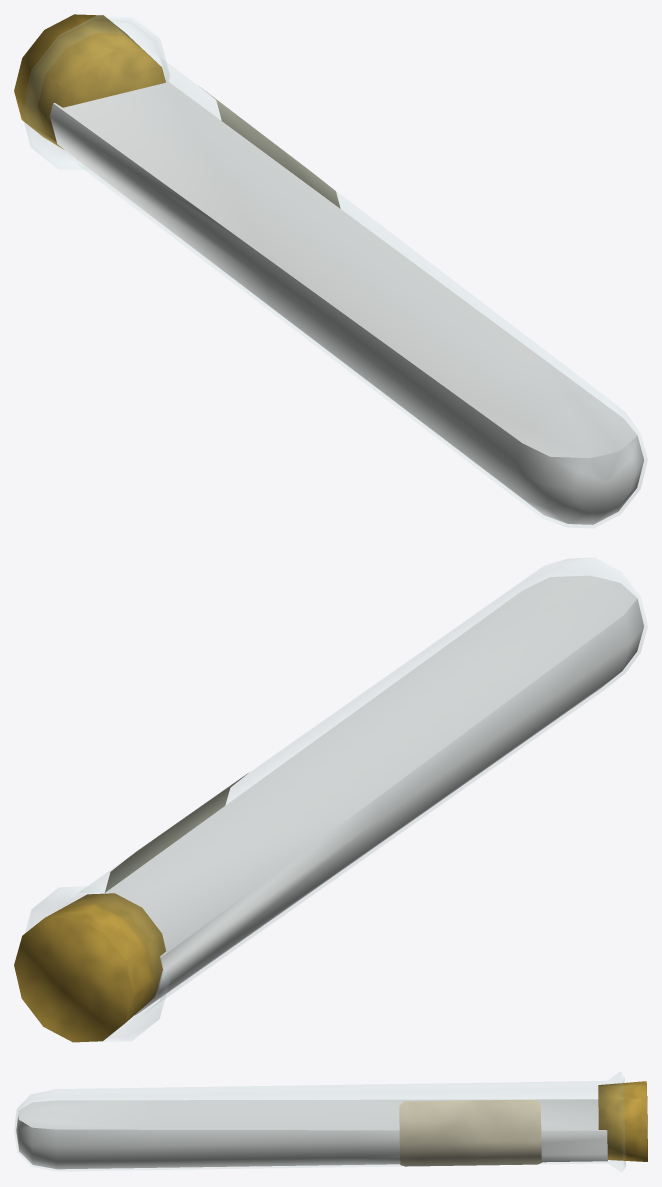
File: horizontal_tube-long.glb
3 renders of one model, top to bottom at view 1: azimuth 30°, elevation 25°; view 2: azimuth 150°, elevation 25°; view 3: azimuth 270°, elevation 25°, orthographic. The views are drawn at different scales.
Parts seen in each view (by area): view 1: liquid-horizontal_tube-long, horizontal_tube-long, cork-horizontal_tube-long, tag-horizontal_tube-long; view 2: liquid-horizontal_tube-long, cork-horizontal_tube-long, horizontal_tube-long, tag-horizontal_tube-long; view 3: liquid-horizontal_tube-long, horizontal_tube-long, tag-horizontal_tube-long, cork-horizontal_tube-long.
Part boxes in pixels (x1=…): liquid-horizontal_tube-long: x1=50, y1=79, x2=643, y2=524; horizontal_tube-long: x1=22, y1=16, x2=647, y2=527; cork-horizontal_tube-long: x1=14, y1=14, x2=165, y2=149; tag-horizontal_tube-long: x1=199, y1=86, x2=340, y2=208; liquid-horizontal_tube-long: x1=104, y1=575, x2=643, y2=1015; cork-horizontal_tube-long: x1=14, y1=893, x2=165, y2=1042; horizontal_tube-long: x1=25, y1=558, x2=647, y2=1041; tag-horizontal_tube-long: x1=104, y1=773, x2=247, y2=892; liquid-horizontal_tube-long: x1=16, y1=1099, x2=607, y2=1169; horizontal_tube-long: x1=14, y1=1072, x2=625, y2=1171; tag-horizontal_tube-long: x1=399, y1=1099, x2=541, y2=1166; cork-horizontal_tube-long: x1=598, y1=1081, x2=647, y2=1161.
Size of the model in its own units: 0.0343 by 0.0343 by 0.214.
3 materials, 2 textured.
